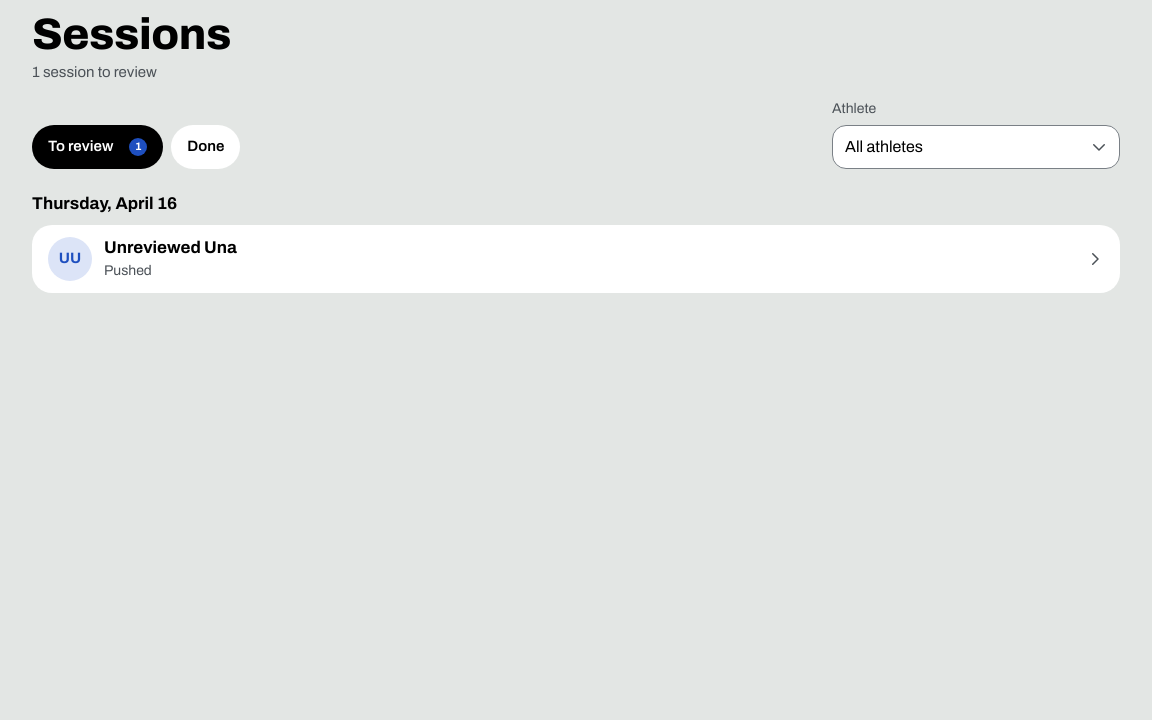
Test: SessionsFeed › says "Reviewed" on the row of a reviewed session, and on it only
Reviewed rows live behind the "Done" chip.
Click the button "Done".
click(206, 147)  # box [171, 125, 240, 169]
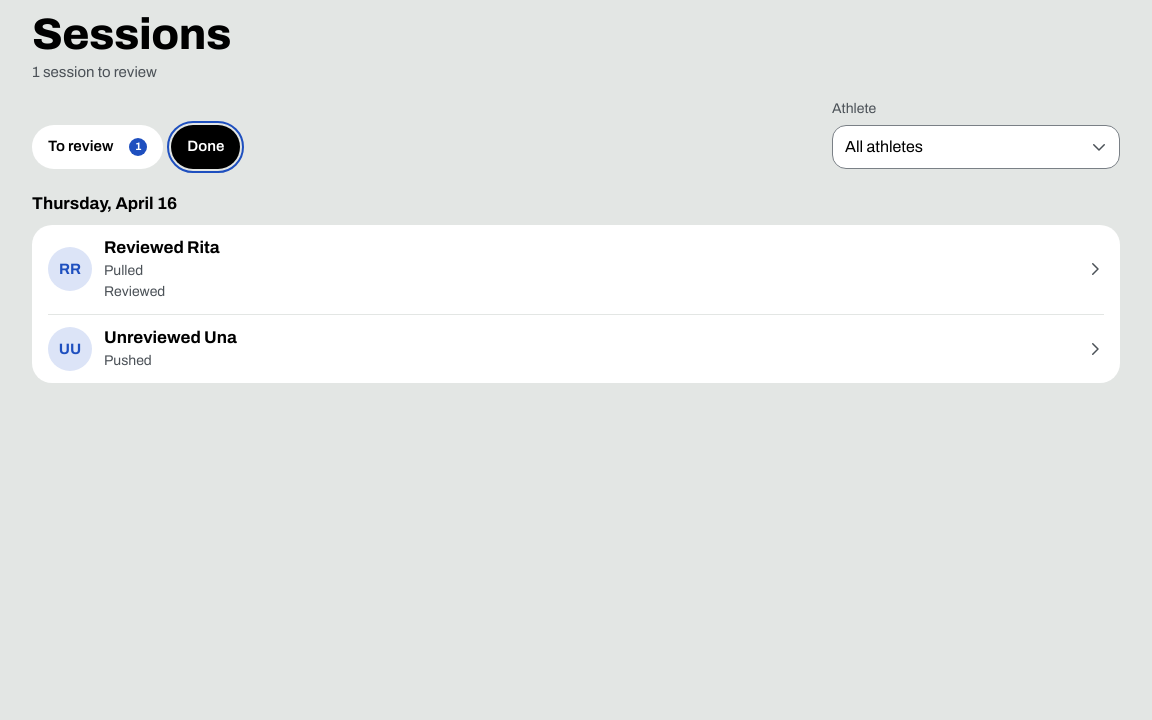
Check: the text "Reviewed" is shown once, box [103, 283, 165, 299]
